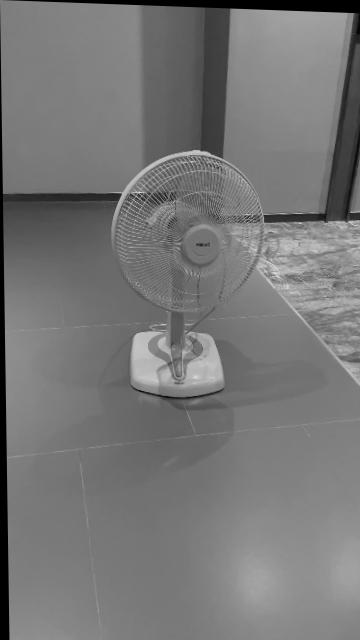Fan: (110, 149, 264, 398)
